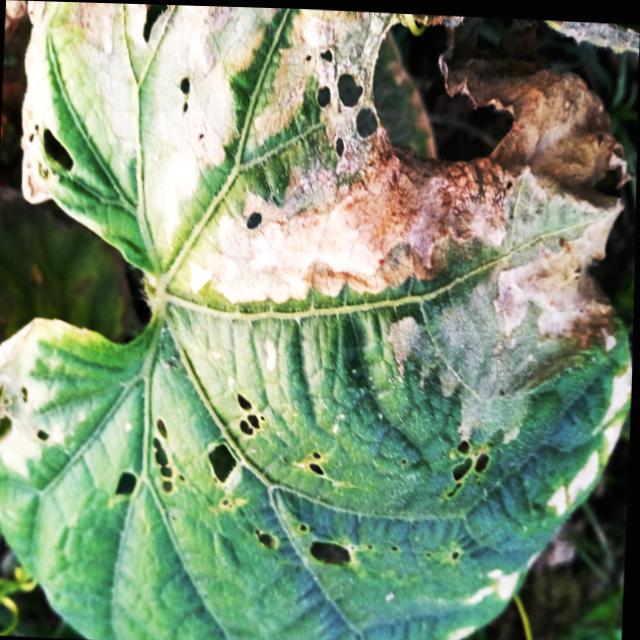Gummy-Stem-Blight: (23, 1, 635, 448)
